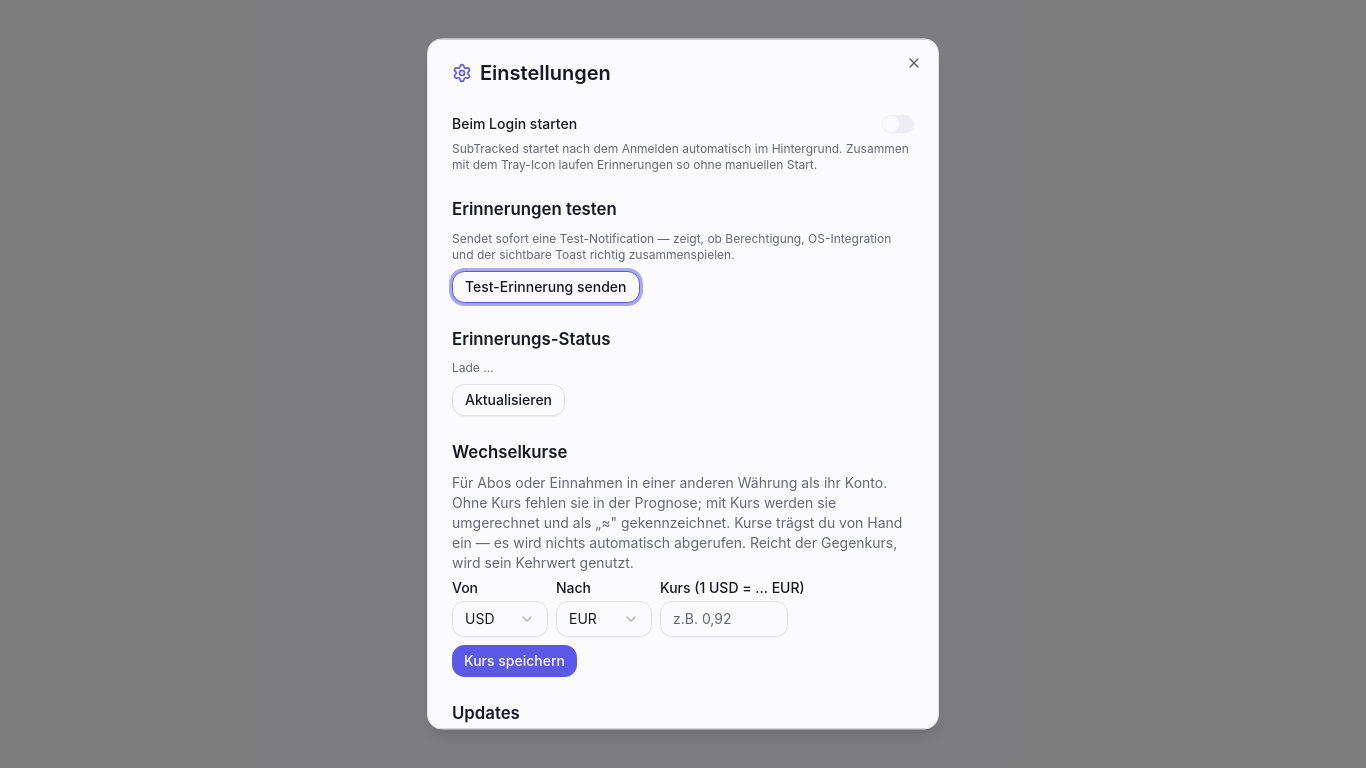
Test case: SettingsDialog › ruft sendTestNotification beim Klick auf 'Test-Erinnerung senden'
This screenshot has width=1366, height=768.
Click the button "Test-Erinnerung senden" at point(546, 287), box left=452, top=271, right=640, bottom=303
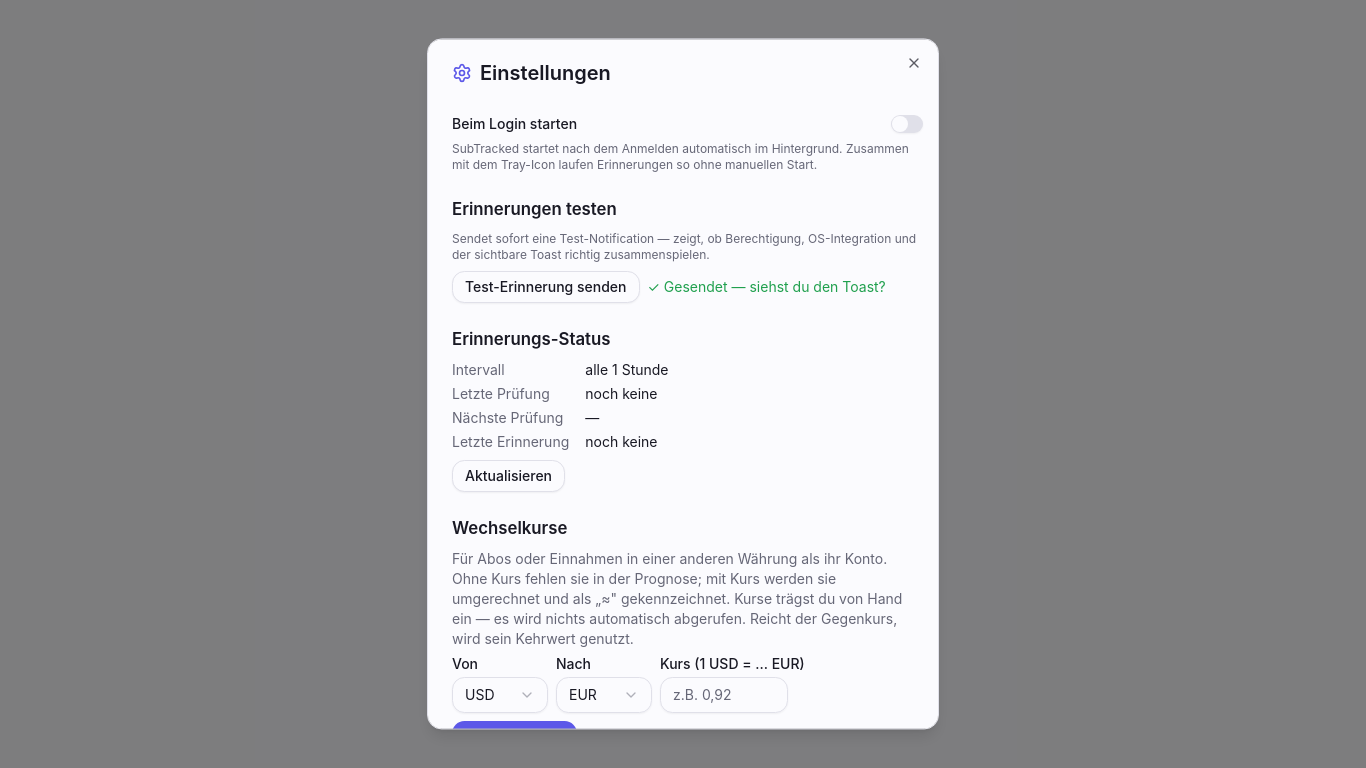
Check: the message shows "Gesendet", box left=648, top=278, right=886, bottom=295
